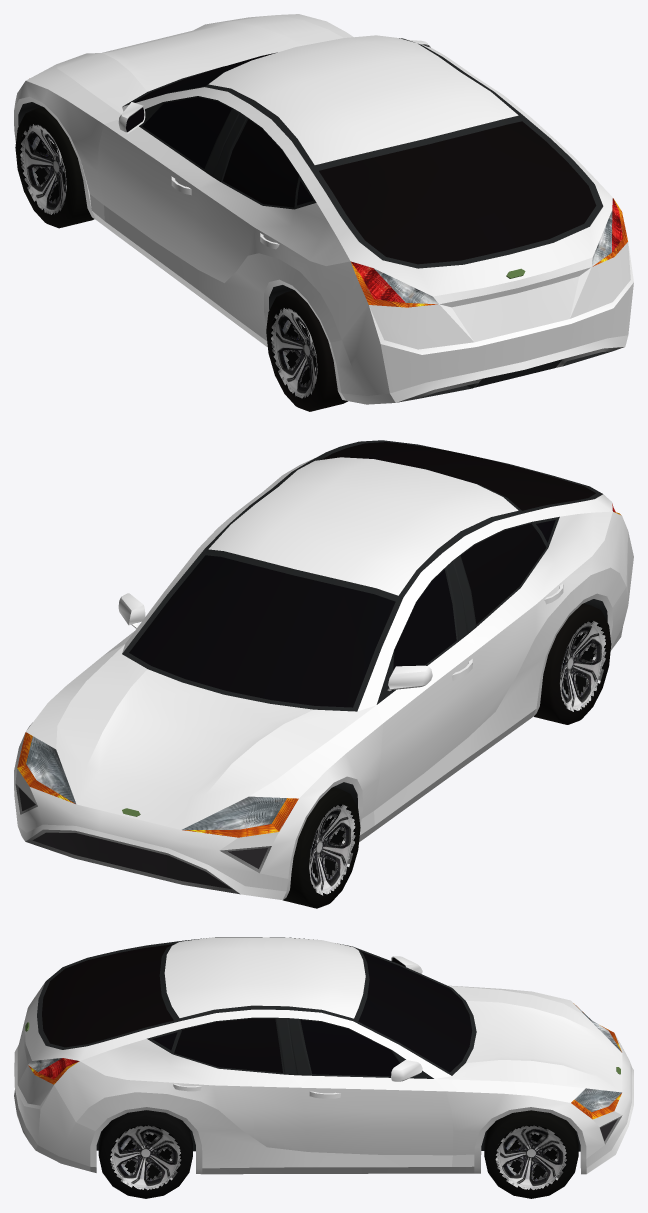
The model's file is aq-hatchback-sport.glb.
3 views of the same model, one above another, from view 1: azimuth 30°, elevation 25°; view 2: azimuth 150°, elevation 25°; view 3: azimuth 270°, elevation 25° (orthographic). The views are drawn at different scales.
Visible parts, largest first — view 1: hatchback-sport-paint.004, hatchback-sport-windows.004, hatchback-sport-blackparts.004, hatchback-sport-Cylinder.022, hatchback-sport-tire.016, hatchback-sport-rim.016, hatchback-sport-rim.017, hatchback-sport-headlights.005, hatchback-sport-taillights.004, hatchback-sport-blinkers.002, hatchback-sport-silvertrim.003; view 2: hatchback-sport-paint.004, hatchback-sport-windows.004, hatchback-sport-blackparts.004, hatchback-sport-grills.004, hatchback-sport-headlights.006, hatchback-sport-Cylinder.022, hatchback-sport-tire.016, hatchback-sport-rim.017, hatchback-sport-rim.016, hatchback-sport-silvertrim.003, hatchback-sport-blinkers.002; view 3: hatchback-sport-paint.004, hatchback-sport-windows.004, hatchback-sport-blackparts.004, hatchback-sport-rim.018, hatchback-sport-rim.019, hatchback-sport-tire.018, hatchback-sport-tire.017, hatchback-sport-headlights.006, hatchback-sport-blinkers.002, hatchback-sport-taillights.004.
Boxes of the visible parts, x1,y1,x2,y2 form: hatchback-sport-paint.004: [14, 14, 633, 404]; hatchback-sport-windows.004: [126, 45, 596, 264]; hatchback-sport-blackparts.004: [18, 38, 611, 398]; hatchback-sport-Cylinder.022: [266, 290, 347, 411]; hatchback-sport-tire.016: [15, 107, 94, 228]; hatchback-sport-rim.016: [20, 123, 66, 215]; hatchback-sport-rim.017: [270, 307, 317, 398]; hatchback-sport-headlights.005: [374, 210, 612, 304]; hatchback-sport-taillights.004: [351, 198, 622, 302]; hatchback-sport-blinkers.002: [351, 199, 627, 307]; hatchback-sport-silvertrim.003: [397, 347, 624, 402]; hatchback-sport-paint.004: [14, 455, 633, 900]; hatchback-sport-windows.004: [129, 442, 595, 707]; hatchback-sport-blackparts.004: [122, 440, 607, 807]; hatchback-sport-grills.004: [18, 787, 267, 889]; hatchback-sport-headlights.006: [26, 736, 286, 829]; hatchback-sport-Cylinder.022: [534, 603, 611, 724]; hatchback-sport-tire.016: [283, 787, 360, 908]; hatchback-sport-rim.017: [559, 620, 606, 711]; hatchback-sport-rim.016: [309, 804, 355, 895]; hatchback-sport-silvertrim.003: [15, 784, 271, 894]; hatchback-sport-blinkers.002: [17, 512, 621, 837]; hatchback-sport-paint.004: [14, 937, 633, 1174]; hatchback-sport-windows.004: [42, 944, 472, 1076]; hatchback-sport-blackparts.004: [37, 937, 580, 1151]; hatchback-sport-rim.018: [495, 1125, 567, 1190]; hatchback-sport-rim.019: [109, 1125, 181, 1190]; hatchback-sport-tire.018: [98, 1110, 192, 1198]; hatchback-sport-tire.017: [484, 1110, 578, 1198]; hatchback-sport-headlights.006: [574, 1005, 621, 1112]; hatchback-sport-blinkers.002: [28, 1003, 621, 1119]; hatchback-sport-taillights.004: [38, 1058, 79, 1079].
Bounding box in the file's own units: 1.85 × 1.35 × 4.18.
9 materials, 6 textured.
